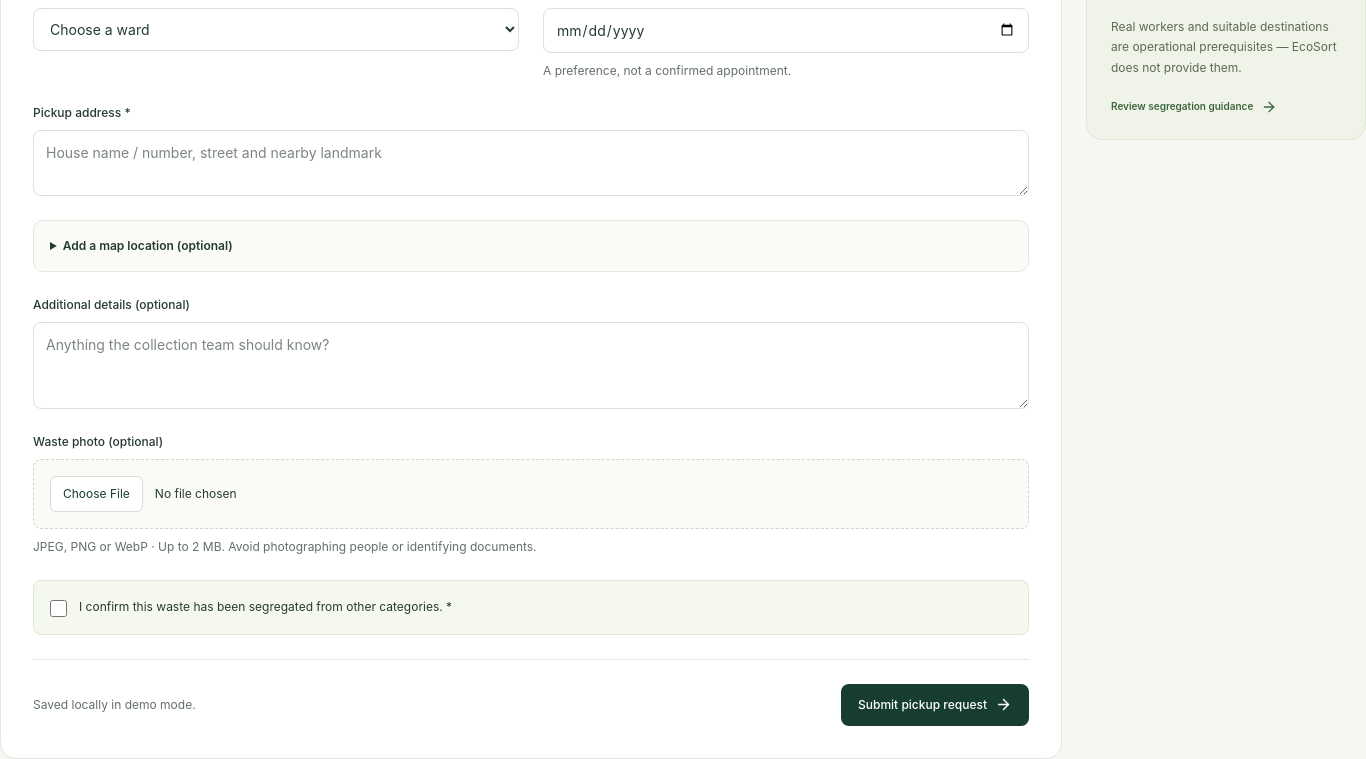
resident form provides accessible required field feedback
The image size is (1366, 759).
(page scrolled)
Click the button "Submit pickup request".
click(935, 705)  # box [841, 684, 1029, 726]
(page scrolled)
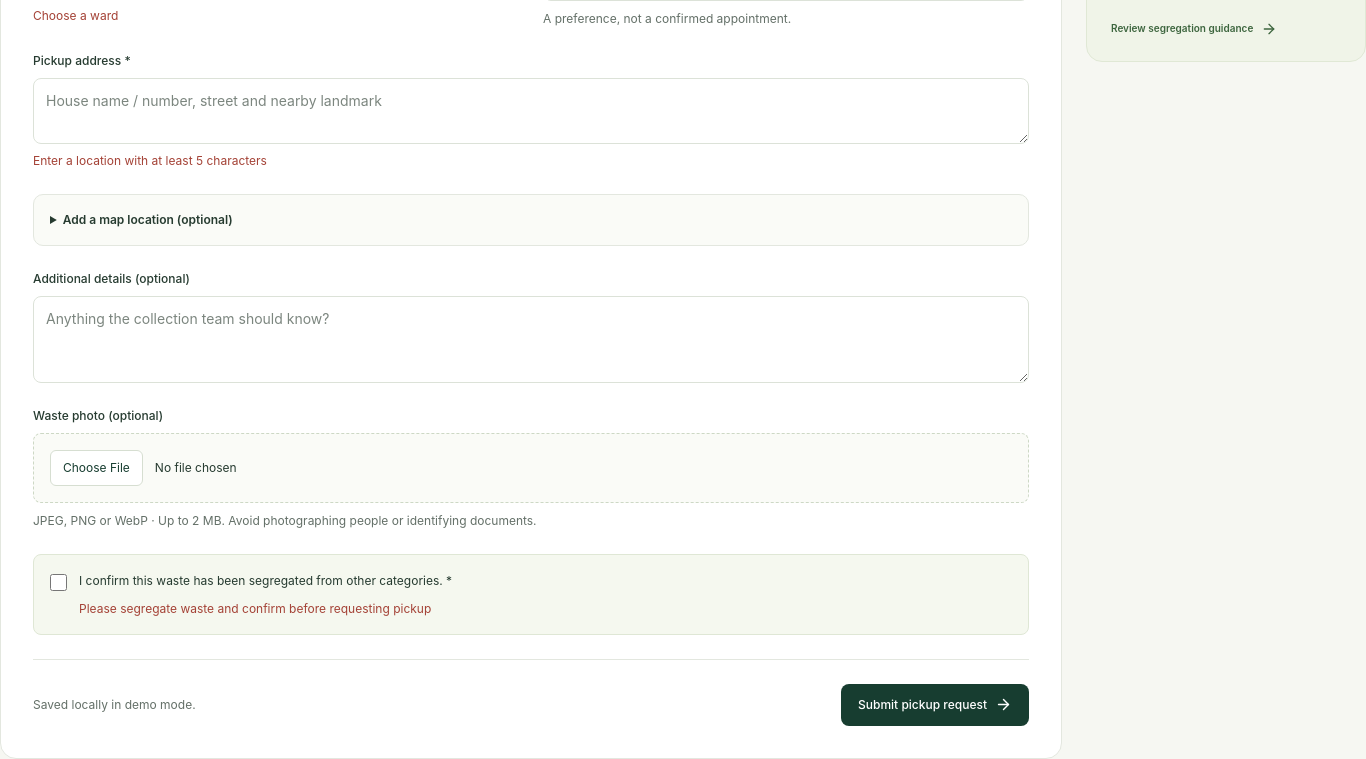
Check: the text box labelled "Pickup address *" is shown, box [33, 78, 1029, 144]
Check: the text "Please segregate waste and confirm before requesting pickup" is shown, box [79, 601, 431, 616]
